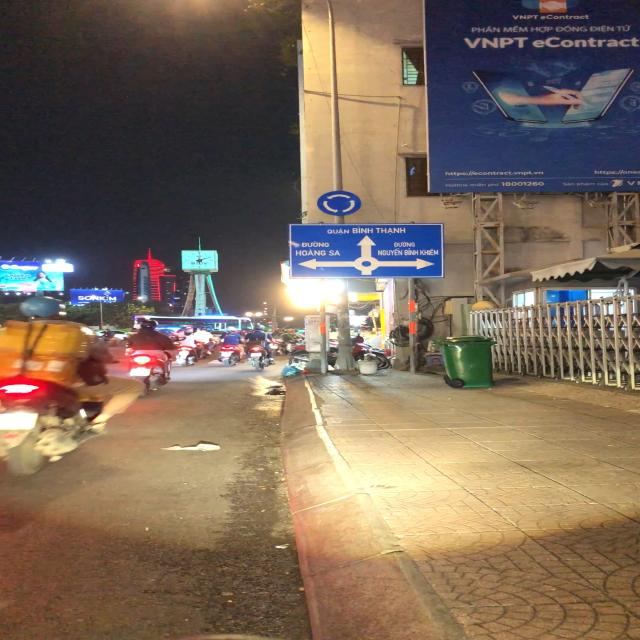Bien bao noi giao nhau chay theo vong xuyen: (315, 190, 363, 217)
